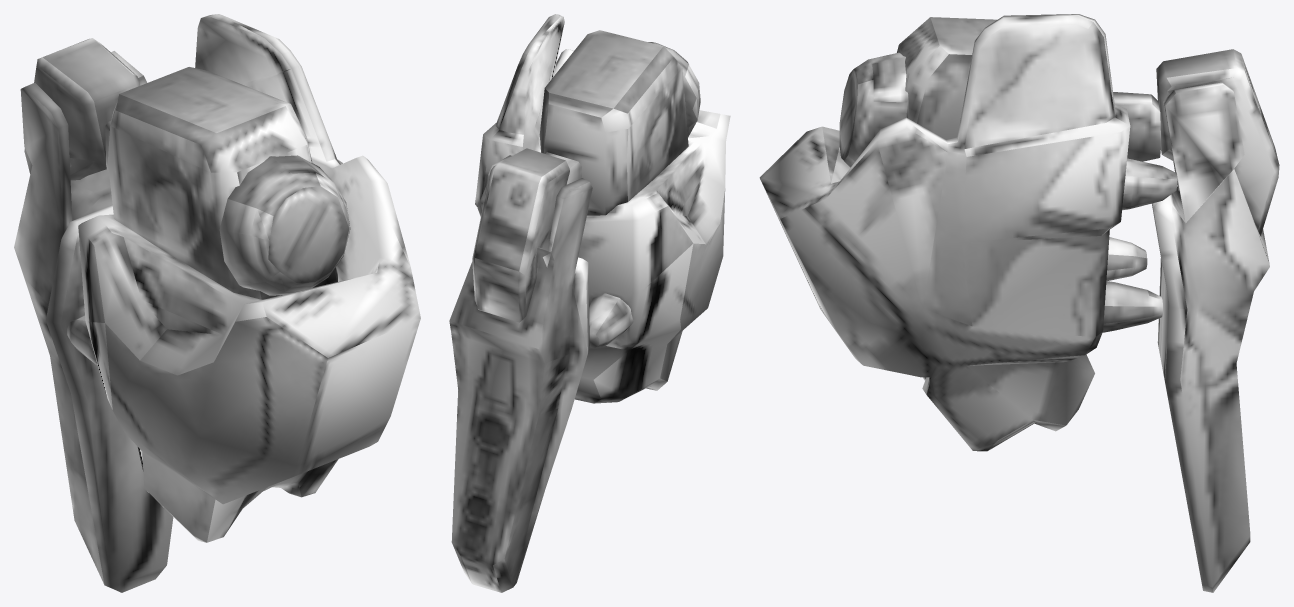
The model's file is l_thigh.glb.
3 views of the same model, side by side, from view 1: azimuth 30°, elevation 25°; view 2: azimuth 150°, elevation 25°; view 3: azimuth 270°, elevation 25° (orthographic). The views are drawn at different scales.
Parts seen in each view (by area): view 1: l_thigh; view 2: l_thigh; view 3: l_thigh.
Part boxes in pixels (<box>): l_thigh: <box>14,14,420,592</box>; l_thigh: <box>449,14,730,592</box>; l_thigh: <box>759,14,1279,592</box>.
Bounding box in the file's own units: 0.4445 × 1.13 × 0.9135.
3 materials, 3 textured.
